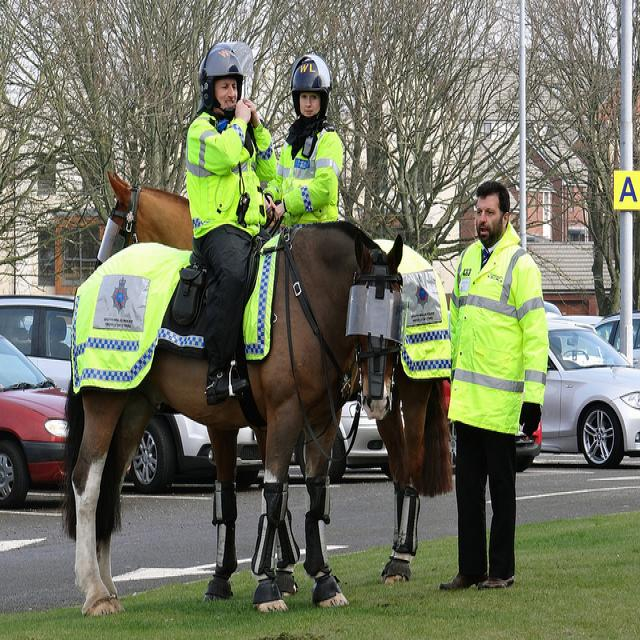Vehicle: (541, 319, 640, 468), (2, 330, 72, 513), (130, 407, 265, 493), (0, 299, 76, 390), (335, 401, 385, 481), (593, 312, 640, 368), (514, 421, 542, 473), (560, 315, 604, 325)
